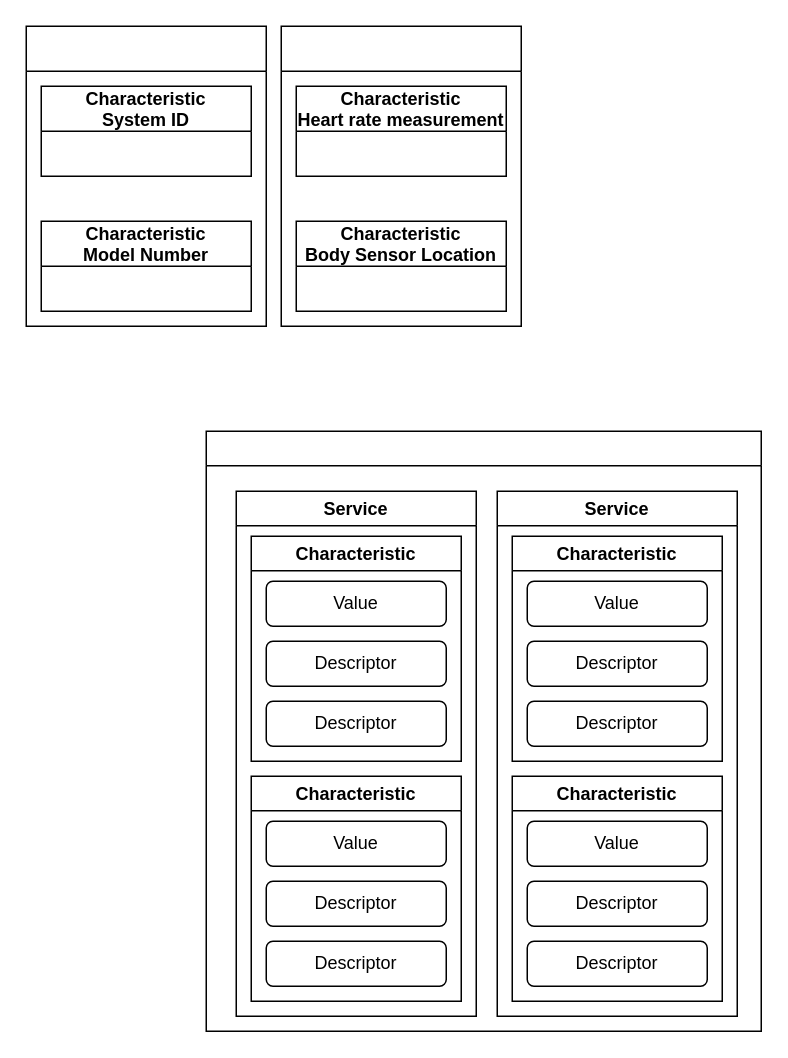
Some shapes in this 788 by 1058 pixel diagram are drawn without their labels. The box of each missing label's shape, as (x1, y1, x2, y2) in pixels:
Profile: (205, 430, 761, 1031)
Service Device Information: (25, 25, 266, 326)
Service Heart rate Service: (280, 25, 521, 326)
